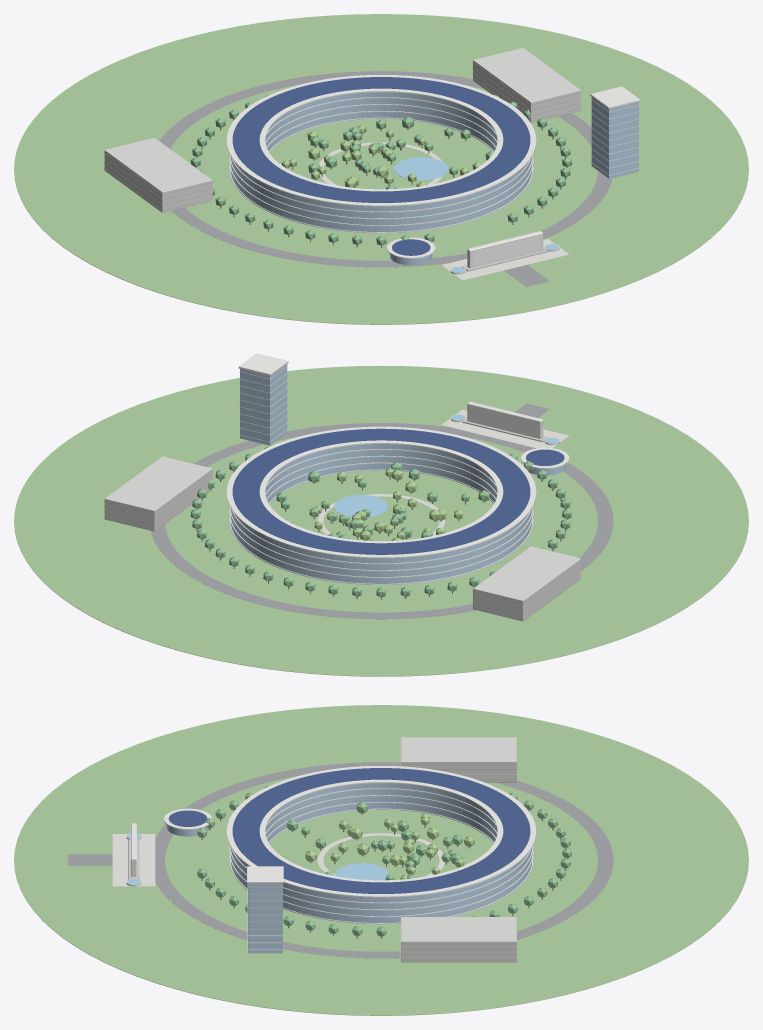
The picture shows the model from 3 angles, top to bottom: view 1: azimuth 30°, elevation 25°; view 2: azimuth 150°, elevation 25°; view 3: azimuth 270°, elevation 25°; orthographic projection.
Parts seen in each view (by area): view 1: ground, glass, solar, ringroad, canopy, garage0, garage1, rd_tower, slab2, plaza, slab1, slab3 (+7 smaller); view 2: ground, glass, solar, ringroad, canopy, garage0, garage1, rd_tower, monolith, slab2, slab3, plaza (+4 smaller); view 3: ground, glass, solar, ringroad, garage1, canopy, garage0, rd_tower, plaza, slab2, slab3, slab1 (+6 smaller).
Part boxes in pixels (<box>): ground: <box>14,14,748,324</box>; glass: <box>230,92,532,231</box>; solar: <box>232,77,530,202</box>; ringroad: <box>159,71,612,267</box>; canopy: <box>226,75,536,206</box>; garage0: <box>104,138,212,212</box>; garage1: <box>473,48,580,122</box>; rd_tower: <box>591,97,638,178</box>; slab2: <box>229,104,533,219</box>; plaza: <box>441,239,569,280</box>; slab1: <box>229,111,533,226</box>; slab3: <box>230,97,531,212</box>; ground: <box>14,365,748,676</box>; glass: <box>230,444,532,583</box>; solar: <box>232,428,530,554</box>; ringroad: <box>150,423,613,619</box>; canopy: <box>226,426,536,558</box>; garage0: <box>473,546,580,621</box>; garage1: <box>104,456,212,531</box>; rd_tower: <box>240,364,287,445</box>; monolith: <box>467,401,543,438</box>; slab2: <box>229,455,533,571</box>; slab3: <box>231,449,531,564</box>; plaza: <box>441,409,568,448</box>; ground: <box>14,705,748,1015</box>; glass: <box>230,783,532,922</box>; solar: <box>232,768,530,893</box>; ringroad: <box>155,762,613,958</box>; garage1: <box>401,917,516,962</box>; canopy: <box>226,765,536,897</box>; garage0: <box>401,737,516,782</box>; rd_tower: <box>248,884,282,953</box>; plaza: <box>112,834,155,886</box>; slab2: <box>229,795,533,910</box>; slab3: <box>230,788,532,903</box>; slab1: <box>229,802,533,917</box>.
Size of the model in its own units: 380 by 41.3 by 380.
